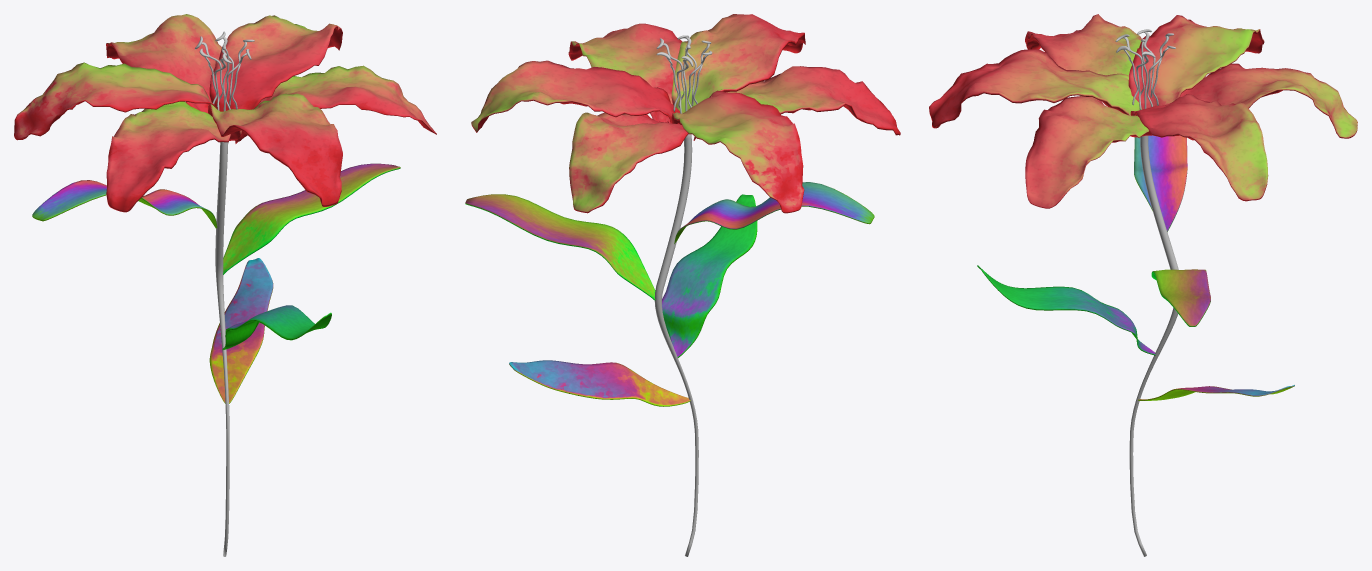
Rendered from Lily_Flower.fbx.
3 renders of one model, left to right at view 1: azimuth 30°, elevation 25°; view 2: azimuth 150°, elevation 25°; view 3: azimuth 270°, elevation 25°, orthographic.
Visible parts, largest first — view 1: Petal5, Petal6, Petal3, Petal_1, Petal2, Petal4, Leaf3, Leaf1, Leaf4, Stem, Leaf2, Stamens; view 2: Petal_1, Petal3, Petal5, Petal2, Leaf2, Leaf3, Petal6, Petal4, Leaf1, Leaf4, Stem, Stamens; view 3: Petal4, Petal5, Petal3, Petal_1, Petal2, Petal6, Leaf4, Leaf2, Stem, Leaf3, Stamens, Leaf1.
Boxes of the visible parts, x1,y1,x2,y2 form: Petal5: [208, 93, 342, 206]; Petal6: [106, 101, 240, 212]; Petal3: [209, 15, 342, 111]; Petal_1: [14, 62, 215, 140]; Petal2: [106, 14, 221, 113]; Petal4: [235, 65, 436, 143]; Leaf3: [223, 163, 400, 274]; Leaf1: [209, 258, 273, 403]; Leaf4: [32, 180, 217, 228]; Stem: [215, 142, 229, 556]; Leaf2: [222, 305, 331, 349]; Stamens: [201, 37, 246, 110]; Petal_1: [671, 90, 804, 213]; Petal3: [471, 60, 679, 132]; Petal5: [671, 14, 805, 113]; Petal2: [569, 112, 688, 213]; Leaf2: [662, 194, 757, 357]; Leaf3: [465, 194, 655, 300]; Petal6: [693, 66, 900, 140]; Petal4: [568, 23, 681, 122]; Leaf1: [509, 360, 690, 406]; Leaf4: [674, 182, 874, 243]; Stem: [654, 134, 698, 556]; Stamens: [663, 37, 709, 113]; Petal4: [1025, 96, 1151, 208]; Petal5: [929, 49, 1141, 128]; Petal3: [1130, 94, 1268, 201]; Petal_1: [1128, 15, 1264, 109]; Petal2: [1180, 63, 1357, 138]; Petal6: [1025, 14, 1141, 75]; Leaf4: [1134, 135, 1187, 231]; Leaf2: [977, 265, 1155, 355]; Stem: [1129, 135, 1178, 556]; Leaf3: [1151, 269, 1210, 326]; Stamens: [1123, 32, 1168, 109]; Leaf1: [1138, 385, 1294, 400].
Bounding box in the file's own units: 27.38 × 34.79 × 26.08.
